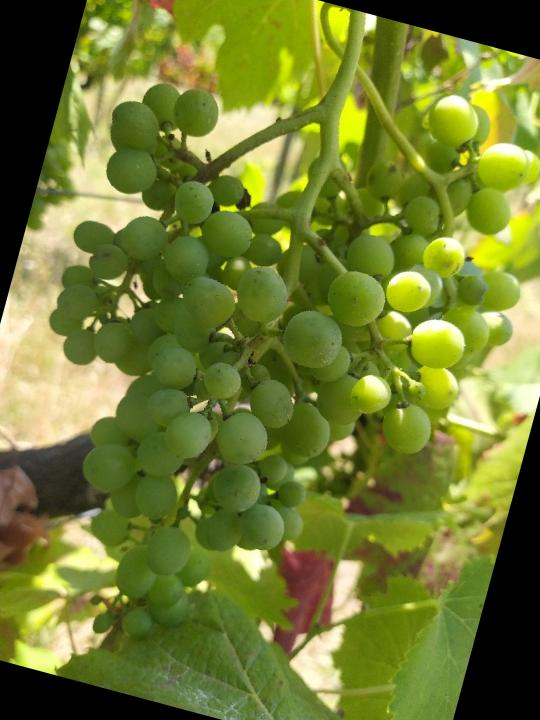grape: (0, 6, 540, 720)
